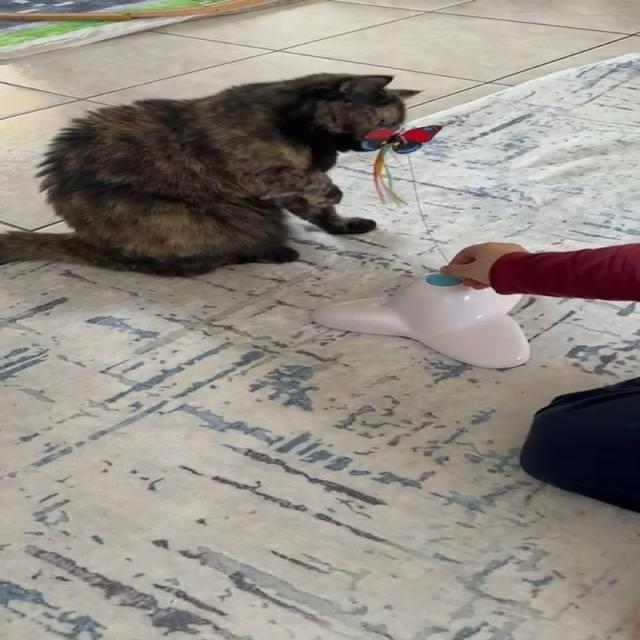authorized: (0, 71, 423, 278)
